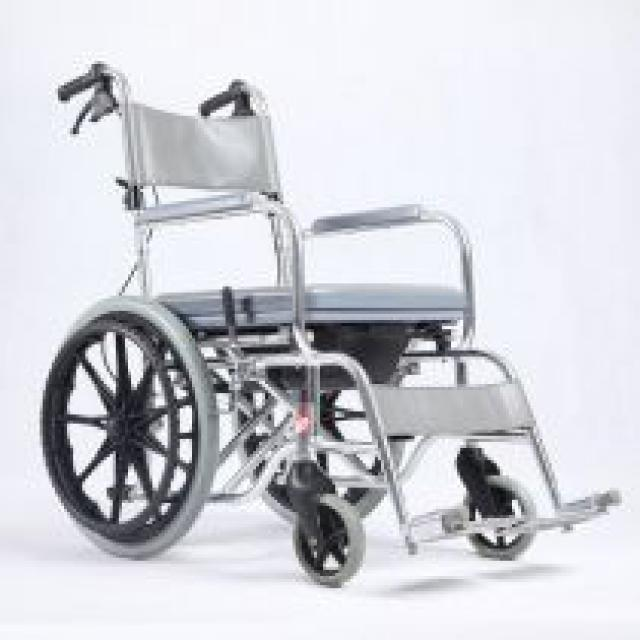wheelchair: (40, 61, 638, 579)
